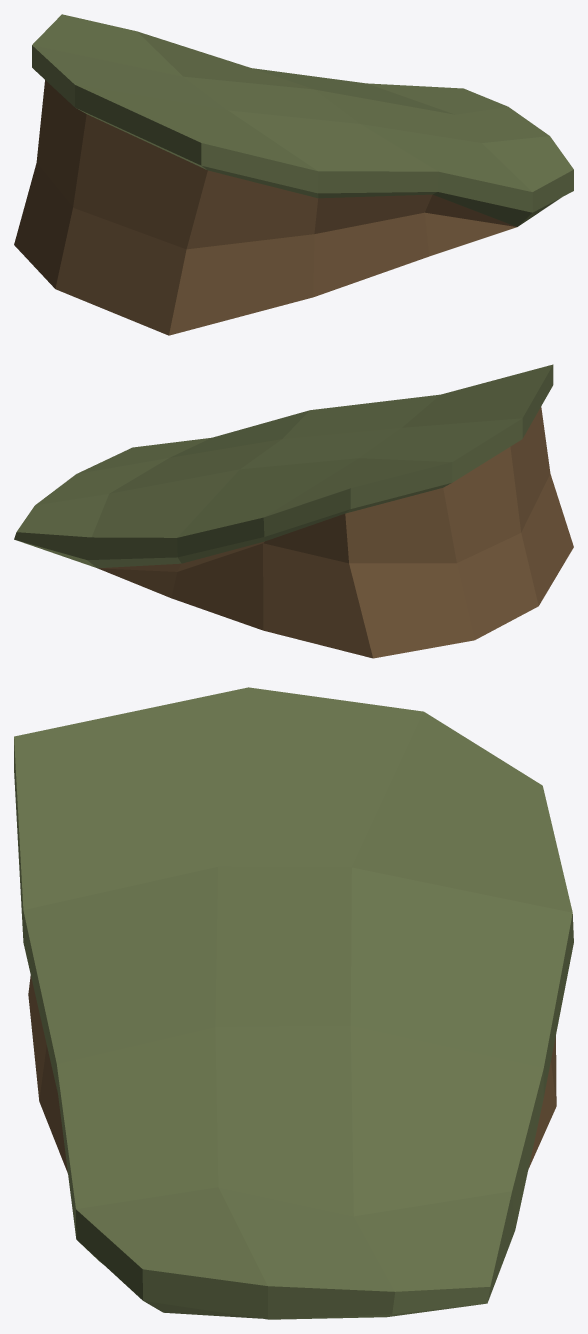
File: SM_Envr_Nature_Cliff_01.fbx
3 renders of one model, top to bottom at view 1: azimuth 30°, elevation 25°; view 2: azimuth 150°, elevation 25°; view 3: azimuth 270°, elevation 25°, orthographic. The views are drawn at different scales.
Parts seen in each view (by area): view 1: SM_Envr_Nature_Cliff_01; view 2: SM_Envr_Nature_Cliff_01; view 3: SM_Envr_Nature_Cliff_01.
Boxes of the visible parts, left/top/right/bottom form: SM_Envr_Nature_Cliff_01: left=14, top=14, right=573, bottom=335; SM_Envr_Nature_Cliff_01: left=14, top=364, right=573, bottom=658; SM_Envr_Nature_Cliff_01: left=14, top=687, right=573, bottom=1319.
Size of the model in its own units: 339 by 130 by 223.
